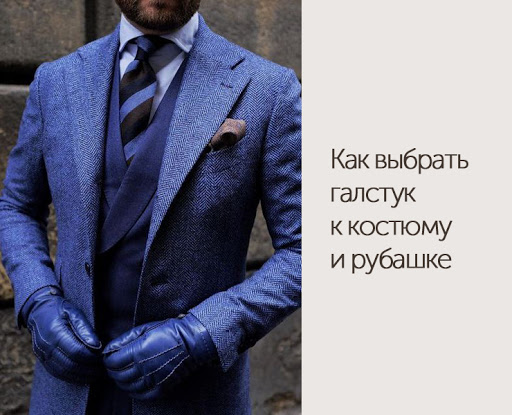tie: (112, 31, 174, 169)
